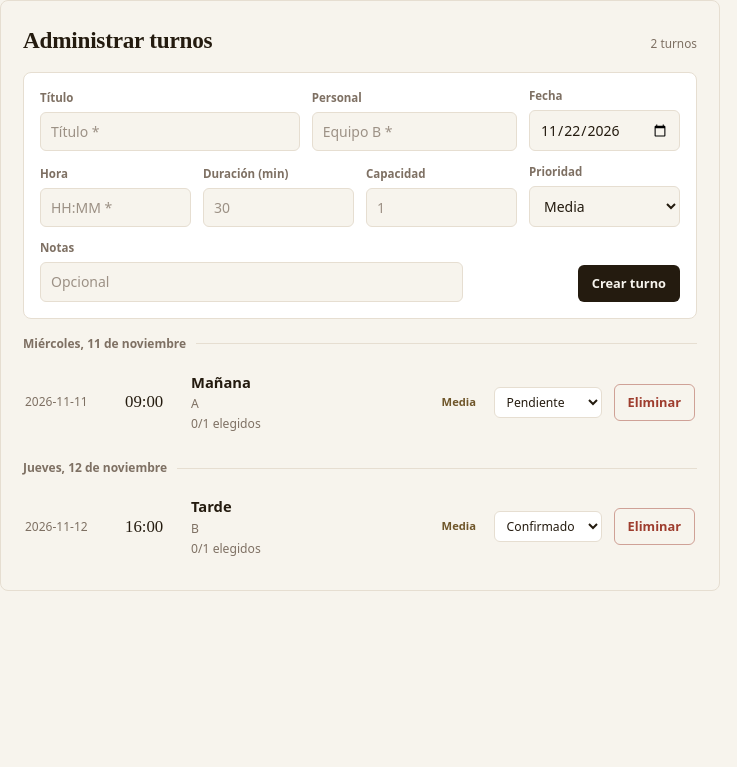
TurnoAdmin (componente del administrador) › creates a turn through the form and the list grows
Type "Extra" into the field with placeholder "Título *" at {"x": 170, "y": 132}, box [40,112,300,151]
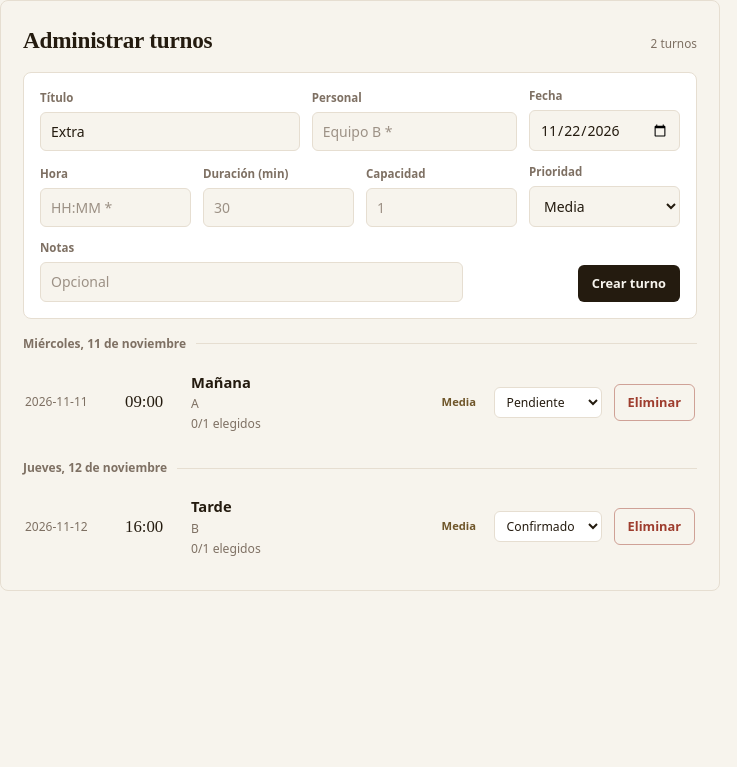
Type "Equipo C" into the field with placeholder "Equipo B *" at {"x": 414, "y": 132}, box [312,112,517,151]
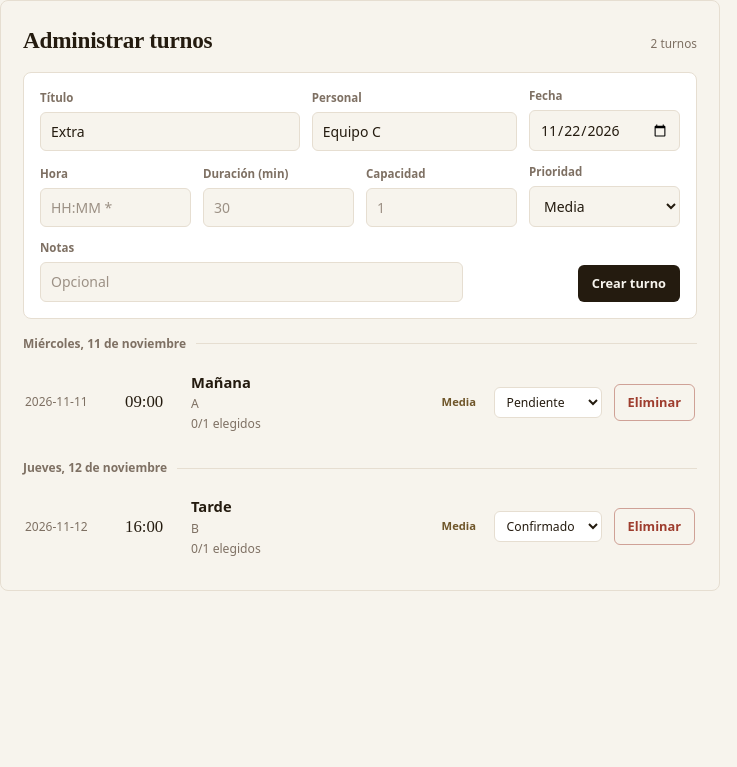
Type "10:30" into the field with placeholder "HH:MM *" at {"x": 116, "y": 208}, box [40,188,191,227]
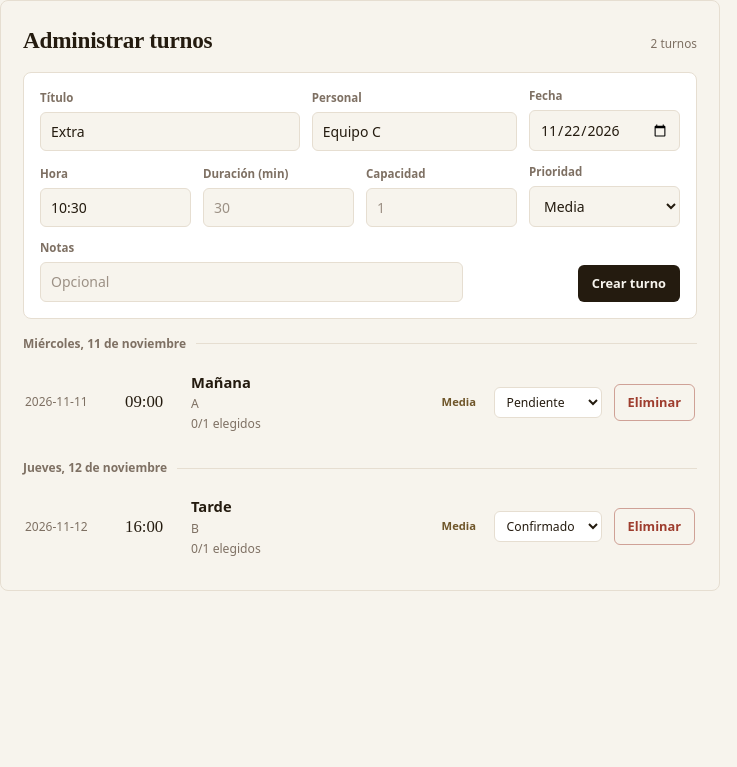
Click the button "Crear turno" at {"x": 629, "y": 283}, box [578,265,680,302]
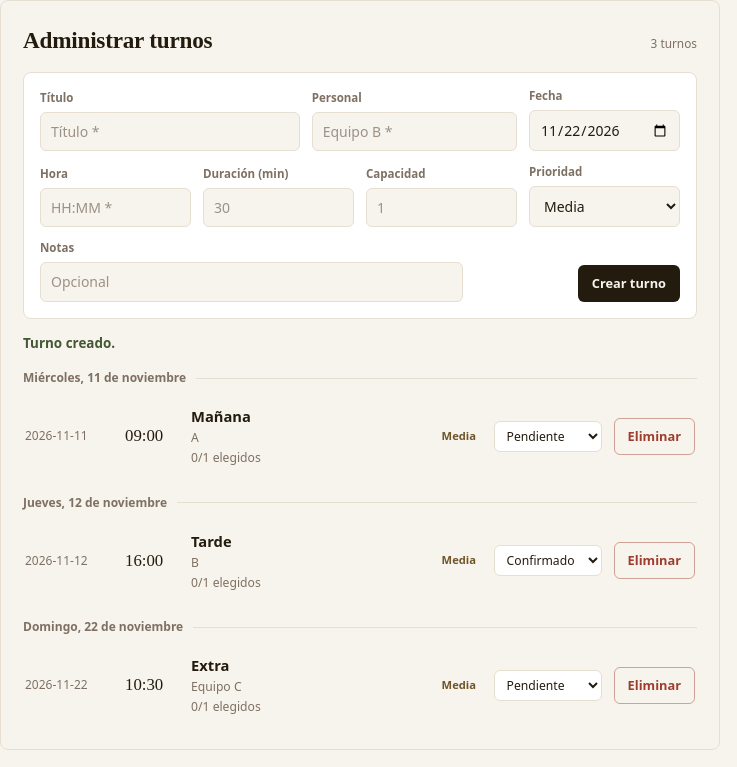
Result: the text "Turno creado." is shown at [23,334,115,352]
Result: the number of list items is 3 at [23,395,697,478]; [23,520,697,602]; [23,644,697,727]
